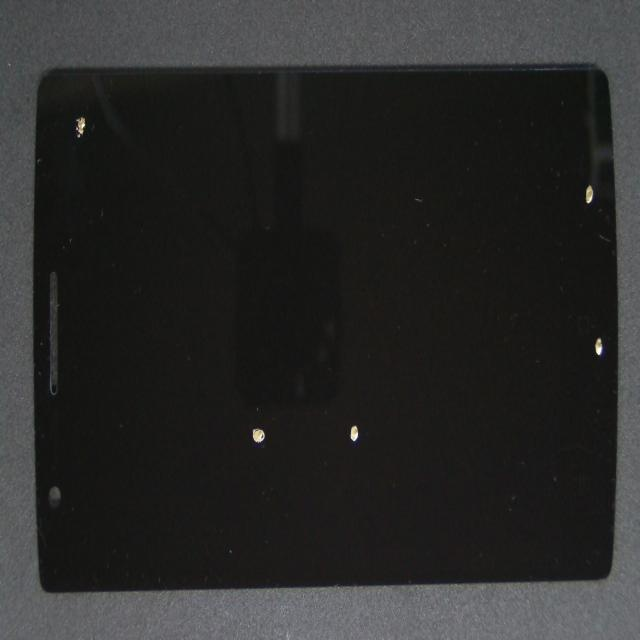stain: (182, 238, 554, 640), (321, 183, 640, 497), (162, 215, 405, 618), (318, 103, 640, 265), (52, 115, 144, 213)
